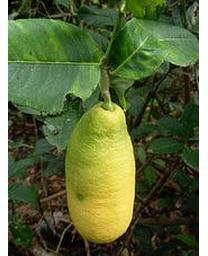lemon: (64, 104, 137, 242)
